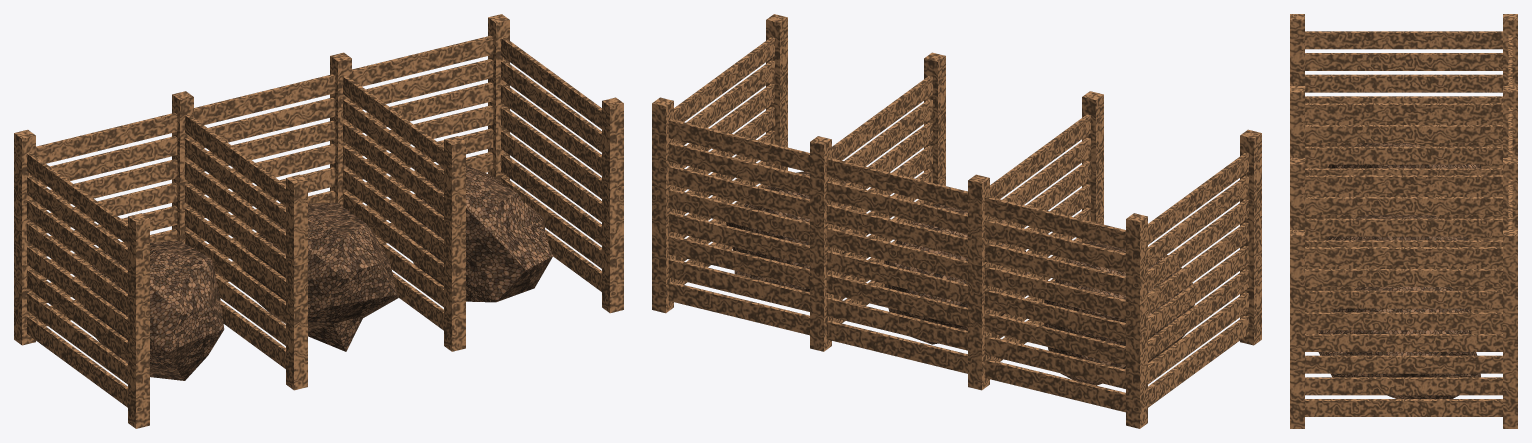
3 renders of one model, left to right at view 1: azimuth 30°, elevation 25°; view 2: azimuth 150°, elevation 25°; view 3: azimuth 270°, elevation 25°, orthographic. The views are drawn at different scales.
Parts seen in each view (by area): view 1: baseOffset=0;depth=1;height=1;material=timber;power=;service (×2); view 2: baseOffset=0;depth=1;height=1;material=timber;power=;service (×2); view 3: baseOffset=0;depth=1;height=1;material=timber;power=;service (×2).
Boxes of the visible parts, x1,y1,x2,y2 form: baseOffset=0;depth=1;height=1;material=timber;power=;service (×2): [14, 14, 623, 428]; baseOffset=0;depth=1;height=1;material=timber;power=;service (×2): [652, 14, 1261, 428]; baseOffset=0;depth=1;height=1;material=timber;power=;service (×2): [1290, 14, 1517, 428].
Size of the model in its own units: 2.47 by 1.07 by 1.06.
Materials: 2 (2 with a texture image).
